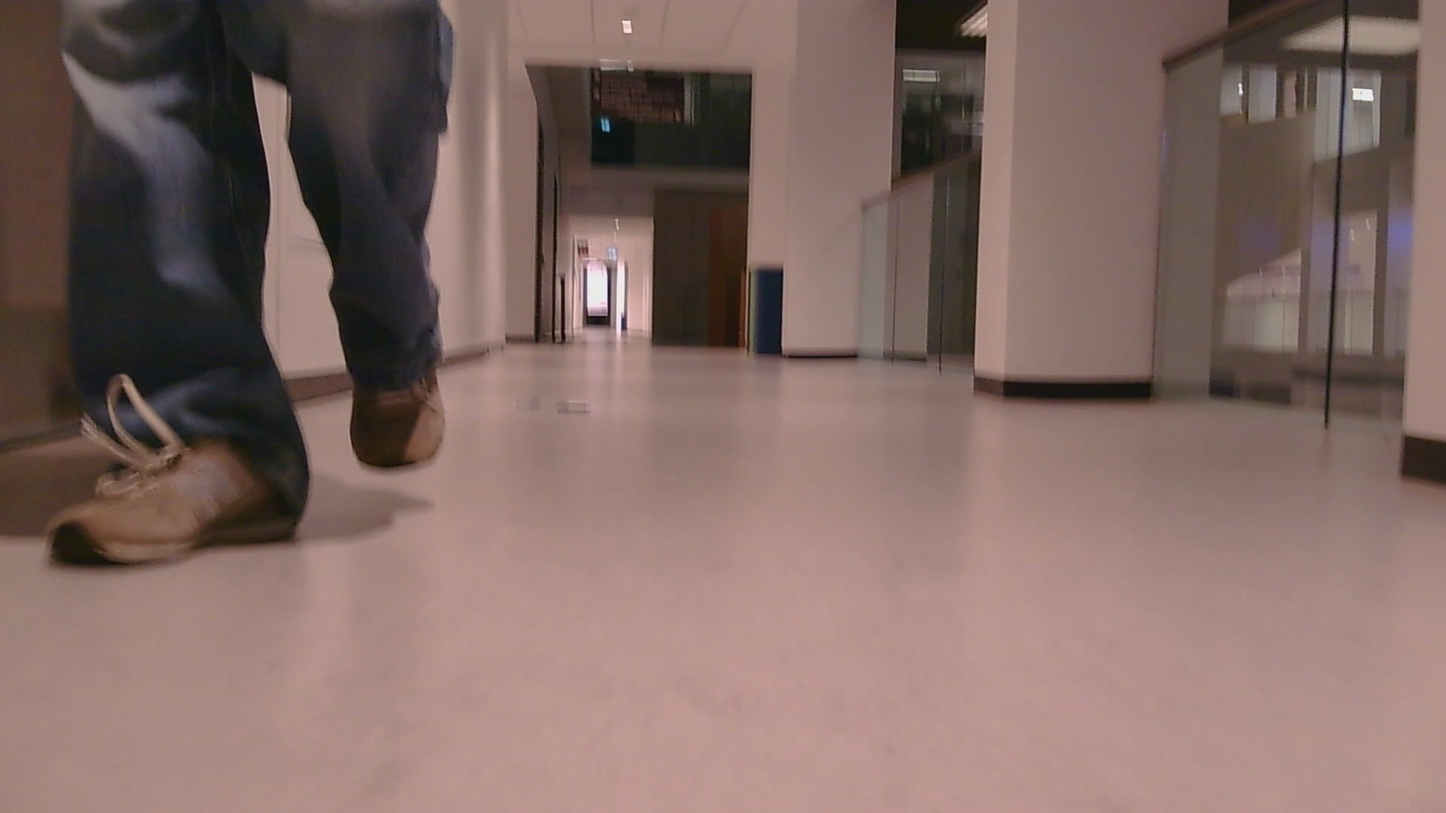carton: (550, 390, 599, 422), (523, 388, 545, 415)
